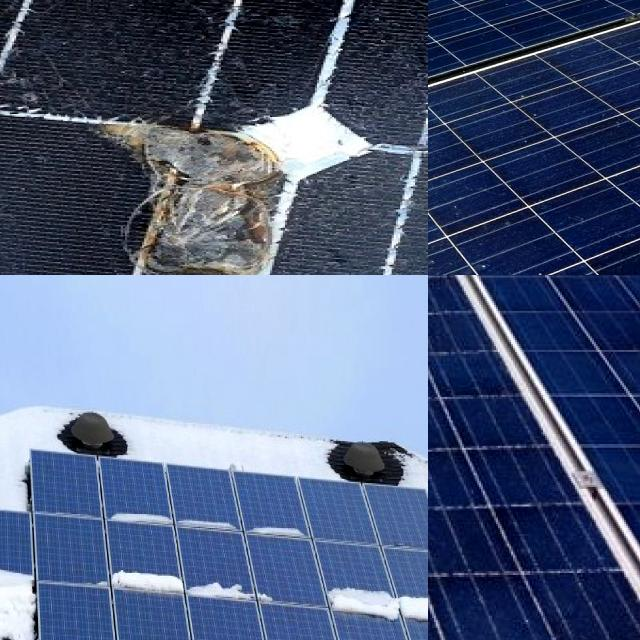hotspot: (428, 275, 484, 356), (428, 275, 491, 324)
panel: (185, 559, 282, 609), (323, 574, 398, 618), (108, 492, 174, 541), (175, 502, 242, 550), (125, 559, 186, 603), (0, 550, 43, 599), (248, 512, 312, 544), (401, 583, 428, 636)
shadow: (55, 73, 340, 275)
